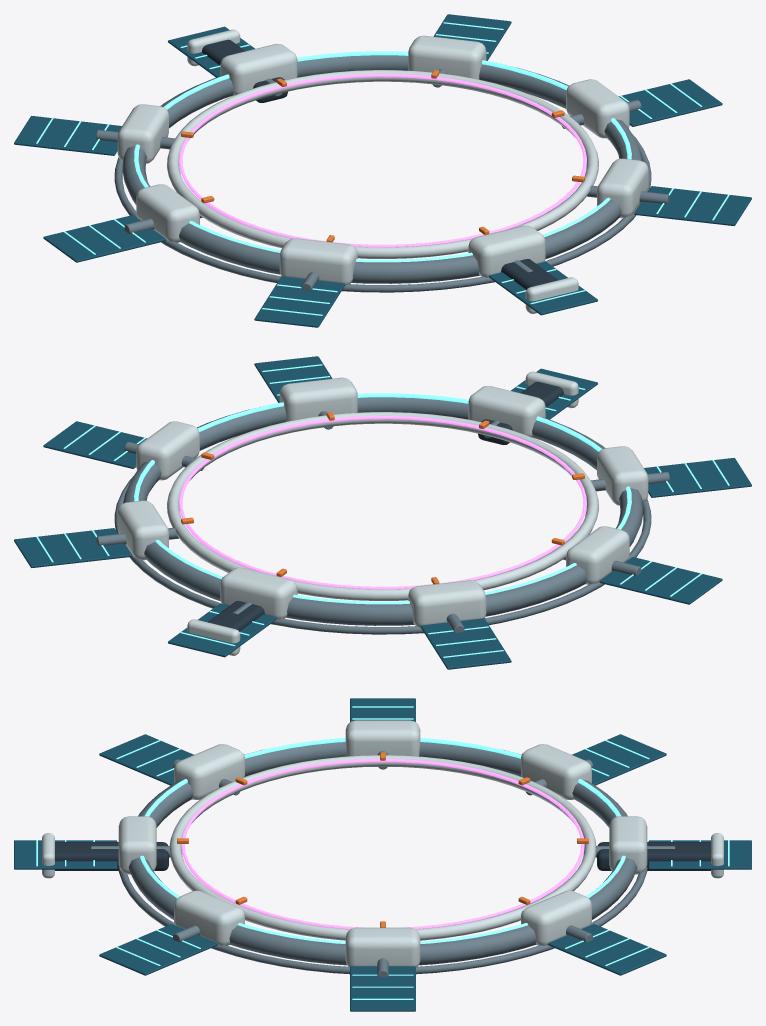
File: OrbitalGate.fbx
The picture shows the model from 3 angles, top to bottom: view 1: azimuth 30°, elevation 25°; view 2: azimuth 150°, elevation 25°; view 3: azimuth 270°, elevation 25°; orthographic projection.
Visible parts, largest first — view 1: Orbital station pressure ring.003, Orbital station pressure ring.004, Orbital station pressure ring.005, Inner lock circuit.001, Radiator wing.013, Radiator wing.012, Radiator wing.015, Habitation pressure module.013, Navigation circuit.001, Radiator wing.011, Habitation pressure module.009, Habitation pressure module.014 (+13 smaller); view 2: Orbital station pressure ring.003, Orbital station pressure ring.004, Orbital station pressure ring.005, Inner lock circuit.001, Radiator wing.011, Radiator wing.012, Radiator wing.009, Habitation pressure module.011, Navigation circuit.001, Radiator wing.013, Habitation pressure module.015, Habitation pressure module.010 (+13 smaller); view 3: Orbital station pressure ring.003, Orbital station pressure ring.004, Orbital station pressure ring.005, Inner lock circuit.001, Habitation pressure module.008, Radiator wing.008, Radiator wing.009, Radiator wing.015, Navigation circuit.001, Habitation pressure module.012, Habitation pressure module.009, Habitation pressure module.015 (+13 smaller).
Part boxes in pixels (x1,y1,x2,y2): Orbital station pressure ring.003: (122, 55, 642, 283); Orbital station pressure ring.004: (167, 70, 598, 258); Orbital station pressure ring.005: (114, 135, 651, 292); Inner lock circuit.001: (179, 73, 586, 247); Radiator wing.013: (254, 276, 345, 327); Radiator wing.012: (43, 215, 166, 262); Radiator wing.015: (634, 186, 751, 225); Habitation pressure module.013: (279, 238, 357, 285); Navigation circuit.001: (134, 51, 631, 262); Radiator wing.011: (14, 116, 121, 155); Habitation pressure module.009: (408, 35, 486, 79); Habitation pressure module.014: (468, 225, 545, 277); Orbital station pressure ring.003: (123, 397, 643, 625); Orbital station pressure ring.004: (167, 412, 598, 600); Orbital station pressure ring.005: (114, 477, 651, 634); Inner lock circuit.001: (179, 415, 586, 589); Radiator wing.011: (420, 618, 511, 669); Radiator wing.012: (599, 557, 722, 604); Radiator wing.009: (14, 528, 131, 567); Habitation pressure module.011: (408, 580, 486, 627); Navigation circuit.001: (134, 393, 631, 604); Radiator wing.013: (644, 458, 751, 497); Habitation pressure module.015: (279, 377, 357, 421); Habitation pressure module.010: (220, 567, 297, 619); Orbital station pressure ring.003: (128, 742, 637, 965); Orbital station pressure ring.004: (169, 755, 596, 940); Orbital station pressure ring.005: (118, 867, 647, 974); Inner lock circuit.001: (181, 759, 584, 929); Habitation pressure module.008: (345, 927, 420, 967); Radiator wing.008: (350, 966, 415, 1011); Radiator wing.009: (548, 924, 666, 975); Radiator wing.015: (99, 924, 217, 975); Navigation circuit.001: (140, 738, 625, 943); Habitation pressure module.012: (345, 720, 420, 756); Habitation pressure module.009: (521, 890, 591, 945); Habitation pressure module.015: (174, 890, 244, 945).
Size of the model in its own units: 1679 by 98.5 by 1679.
